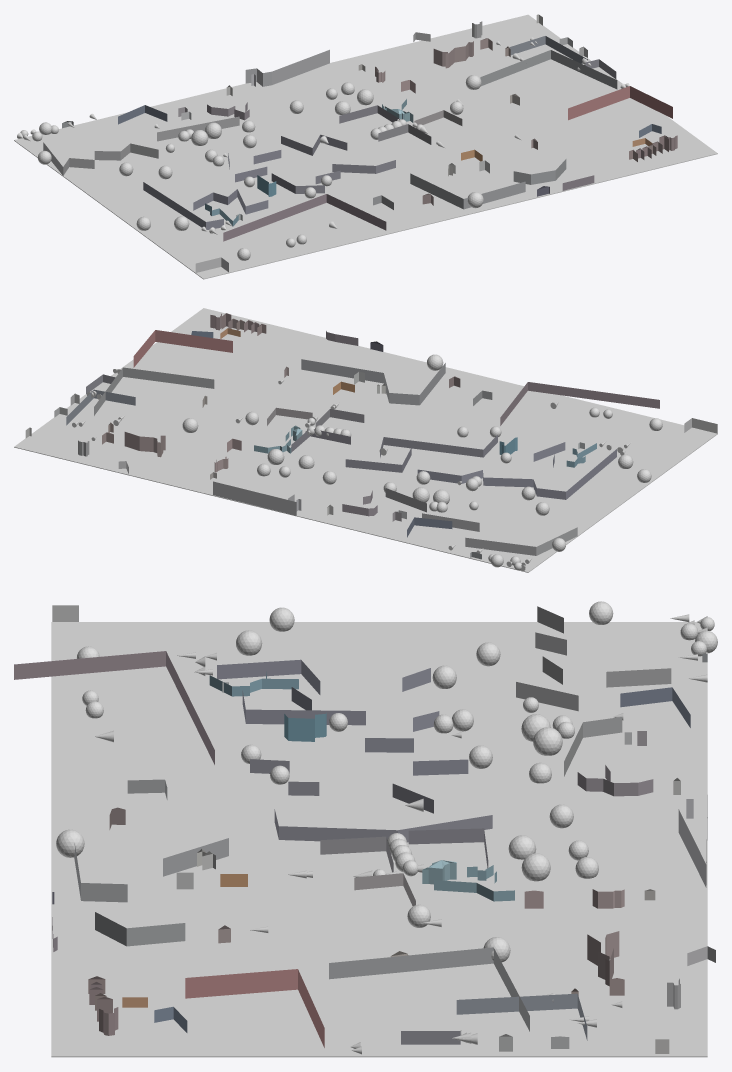
Rendered from scene_1a5e2cc4-154d-41dd-8040-68a31eac1cfe.glb.
The picture shows the model from 3 angles, top to bottom: view 1: azimuth 30°, elevation 25°; view 2: azimuth 150°, elevation 25°; view 3: azimuth 270°, elevation 25°; orthographic projection. The views are drawn at different scales.
Visible parts, largest first — view 1: Ground_Base, BLD-032, BLD-021, BLD-050, BLD-034, BLD-017, BLD-037, BLD-024, BLD-056, BLD-041, BLD-042, BLD-033 (+2 smaller); view 2: Ground_Base, BLD-032, BLD-050, BLD-034, BLD-021, BLD-017, BLD-024, BLD-056, BLD-037, BLD-042, BLD-041, BLD-033 (+1 smaller); view 3: Ground_Base, BLD-032, BLD-050, BLD-021, BLD-034, BLD-037, BLD-017, BLD-024, BLD-041, BLD-036, BLD-033, BLD-047 (+8 smaller).
Boxes of the visible parts, x1=… form: Ground_Base: x1=14, y1=14, x2=717, y2=279; BLD-032: x1=143, y1=150, x2=281, y2=229; BLD-021: x1=410, y1=159, x2=566, y2=209; BLD-050: x1=43, y1=116, x2=239, y2=175; BLD-034: x1=271, y1=134, x2=395, y2=193; BLD-017: x1=223, y1=194, x2=386, y2=241; BLD-037: x1=480, y1=50, x2=617, y2=89; BLD-024: x1=568, y1=86, x2=672, y2=120; BLD-056: x1=245, y1=49, x2=329, y2=86; BLD-041: x1=509, y1=36, x2=587, y2=65; BLD-042: x1=433, y1=41, x2=473, y2=68; BLD-033: x1=339, y1=105, x2=399, y2=123; Ground_Base: x1=14, y1=308, x2=717, y2=572; BLD-032: x1=417, y1=442, x2=616, y2=499; BLD-050: x1=385, y1=488, x2=577, y2=555; BLD-034: x1=345, y1=435, x2=497, y2=472; BLD-021: x1=301, y1=359, x2=445, y2=405; BLD-017: x1=500, y1=382, x2=659, y2=425; BLD-024: x1=133, y1=330, x2=232, y2=367; BLD-056: x1=213, y1=481, x2=296, y2=515; BLD-037: x1=94, y1=367, x2=214, y2=415; BLD-042: x1=124, y1=432, x2=165, y2=457; BLD-041: x1=66, y1=389, x2=135, y2=425; BLD-033: x1=291, y1=429, x2=350, y2=452; Ground_Base: x1=51, y1=622, x2=707, y2=1057; BLD-032: x1=217, y1=659, x2=468, y2=775; BLD-050: x1=516, y1=606, x2=671, y2=776; BLD-021: x1=74, y1=838, x2=228, y2=946; BLD-034: x1=250, y1=759, x2=492, y2=842; BLD-037: x1=329, y1=947, x2=529, y2=1031; BLD-017: x1=14, y1=651, x2=214, y2=764; BLD-024: x1=185, y1=969, x2=324, y2=1047; BLD-041: x1=456, y1=993, x2=587, y2=1040; BLD-036: x1=434, y1=865, x2=514, y2=901; BLD-033: x1=408, y1=828, x2=488, y2=868; BLD-047: x1=577, y1=765, x2=653, y2=796.
Bounding box in the file's own units: 343 × 12.72 × 232.
